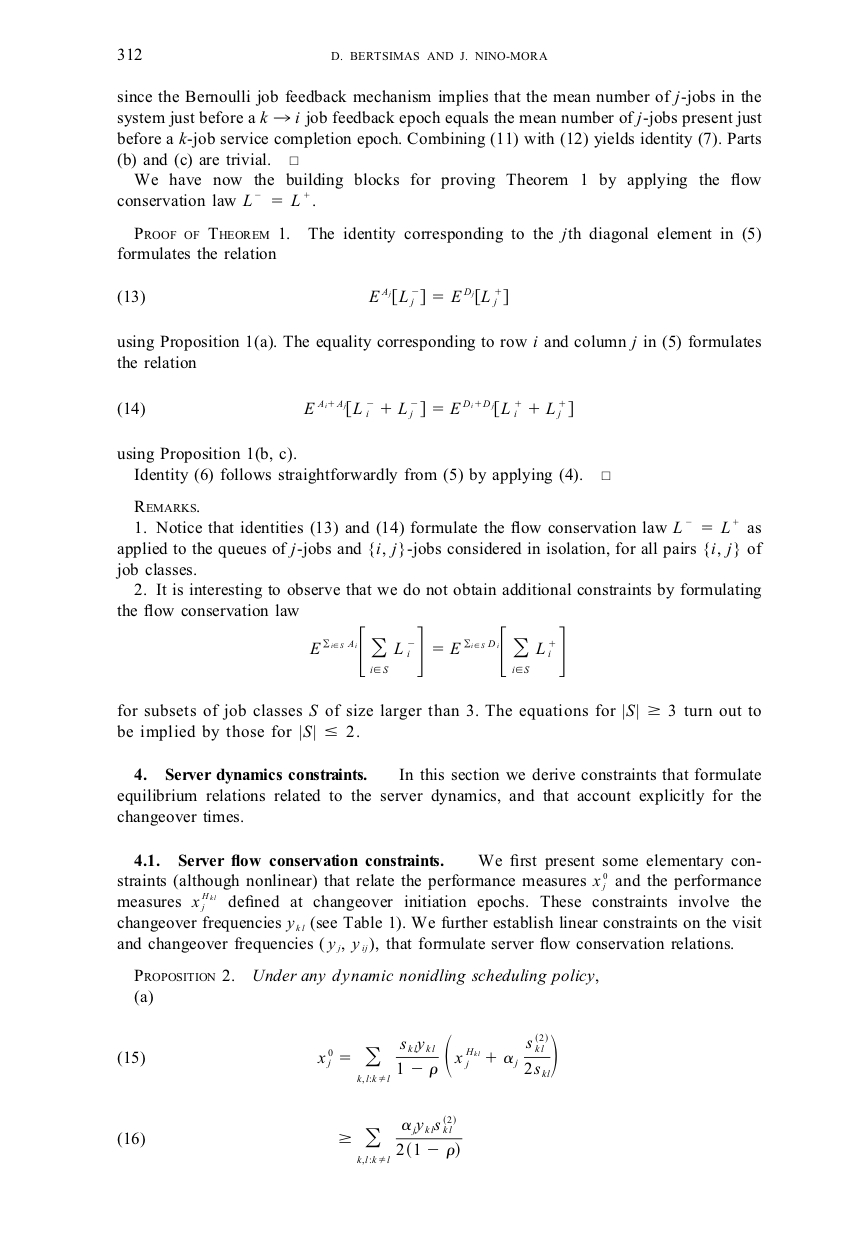formula: (117, 1032, 556, 1084), (117, 1114, 462, 1165), (309, 625, 564, 677), (117, 399, 572, 419), (117, 287, 507, 307)
